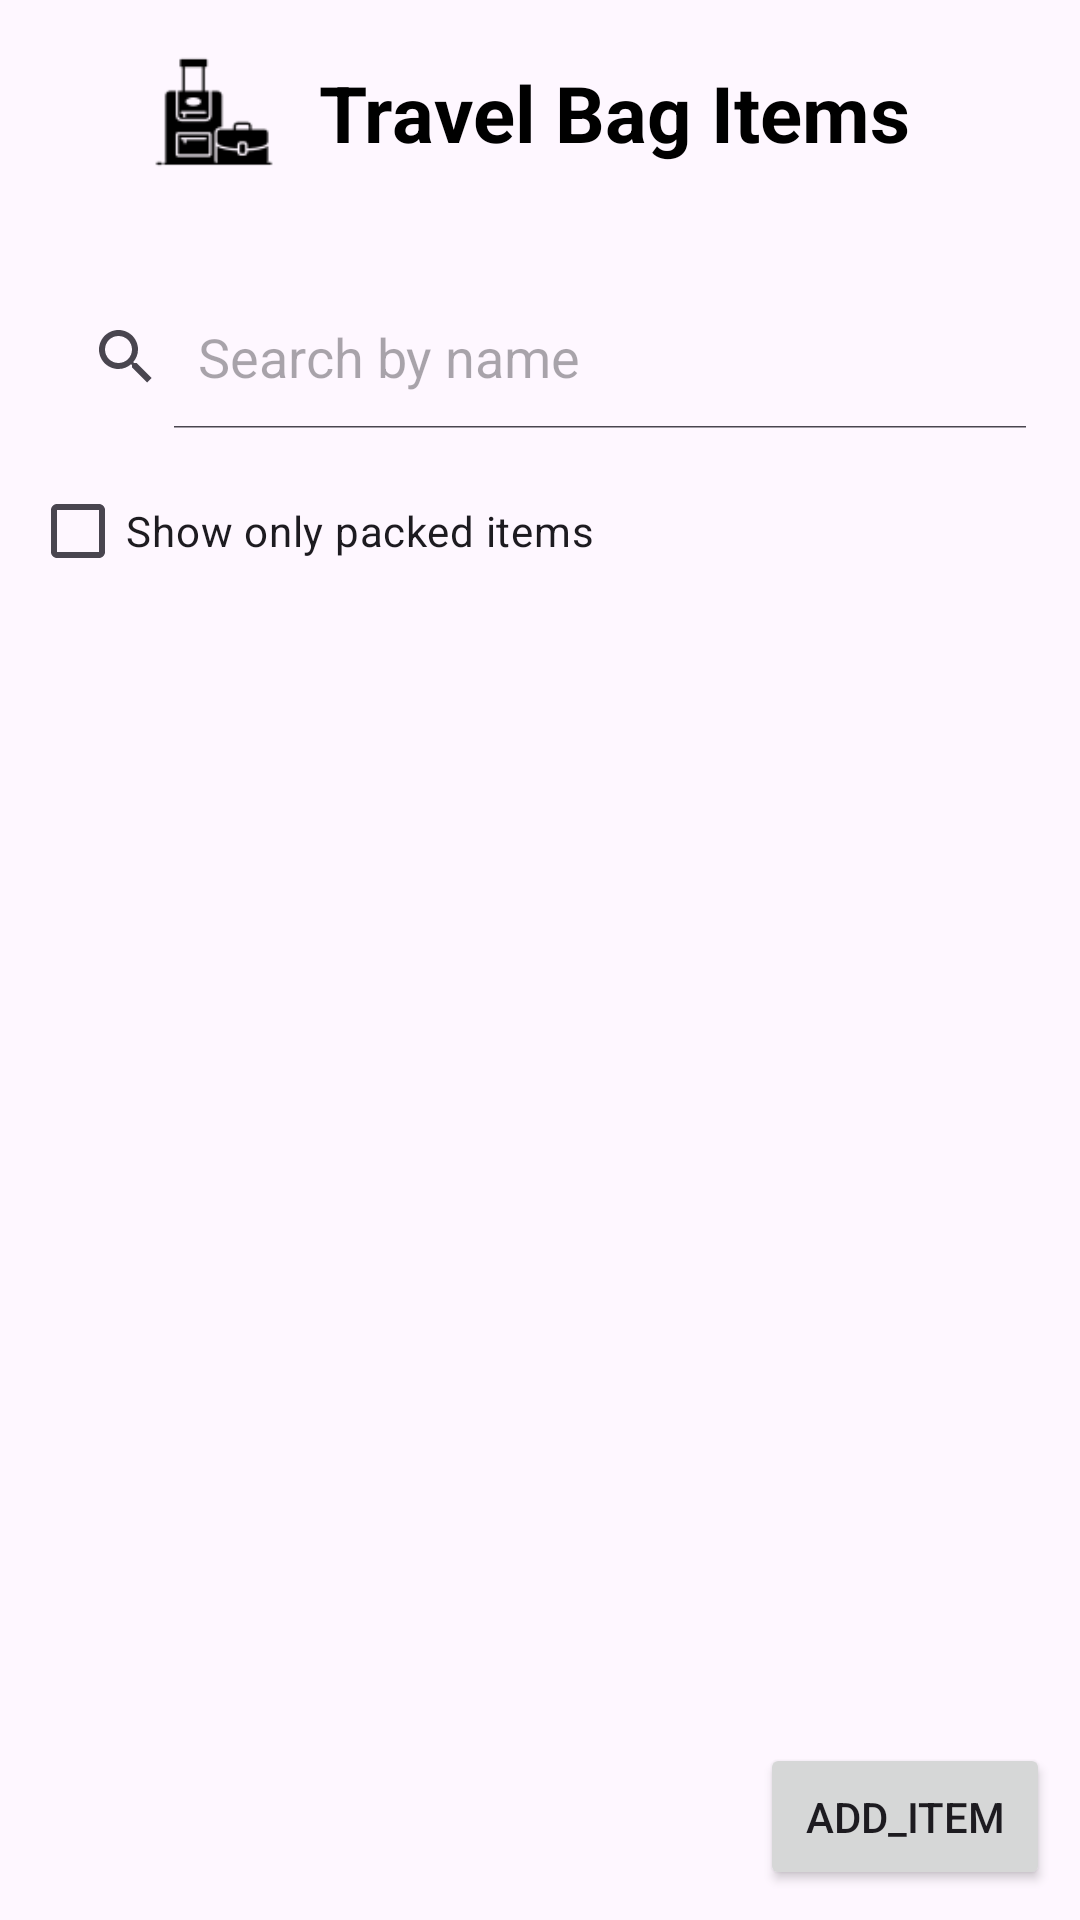

Screen size 1080 x 1920. Icon name, then its center in pixels as (x=x, y=y):
travel bag for title: (x=214, y=112)
